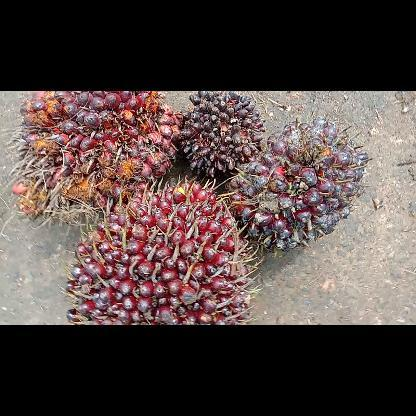Kurang masak: (64, 178, 257, 324), (224, 119, 372, 254)
TBS abnormal: (180, 92, 266, 178)
TBS masak: (12, 92, 182, 222)
